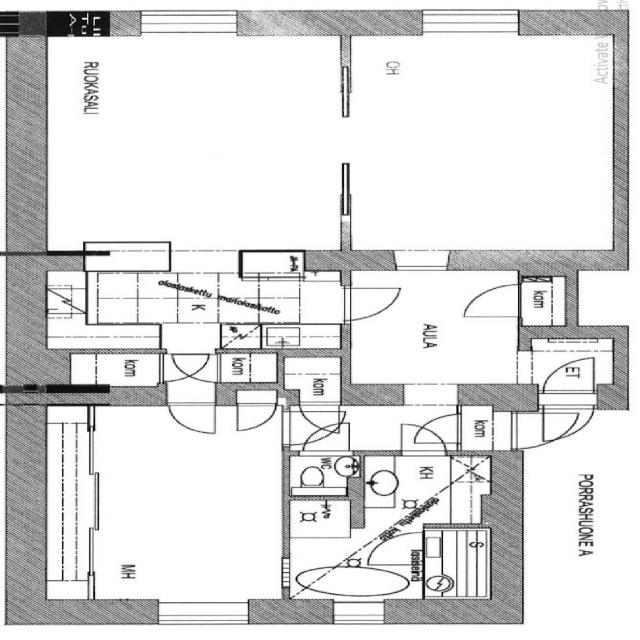door: (511, 413, 576, 449), (282, 412, 344, 445), (343, 288, 403, 320), (370, 533, 426, 565), (467, 285, 522, 317), (544, 405, 594, 440), (544, 360, 594, 394), (410, 414, 463, 444), (401, 423, 446, 456), (304, 423, 349, 456), (171, 354, 221, 382), (169, 403, 214, 434), (160, 354, 208, 382), (300, 402, 339, 430), (238, 404, 276, 429)
